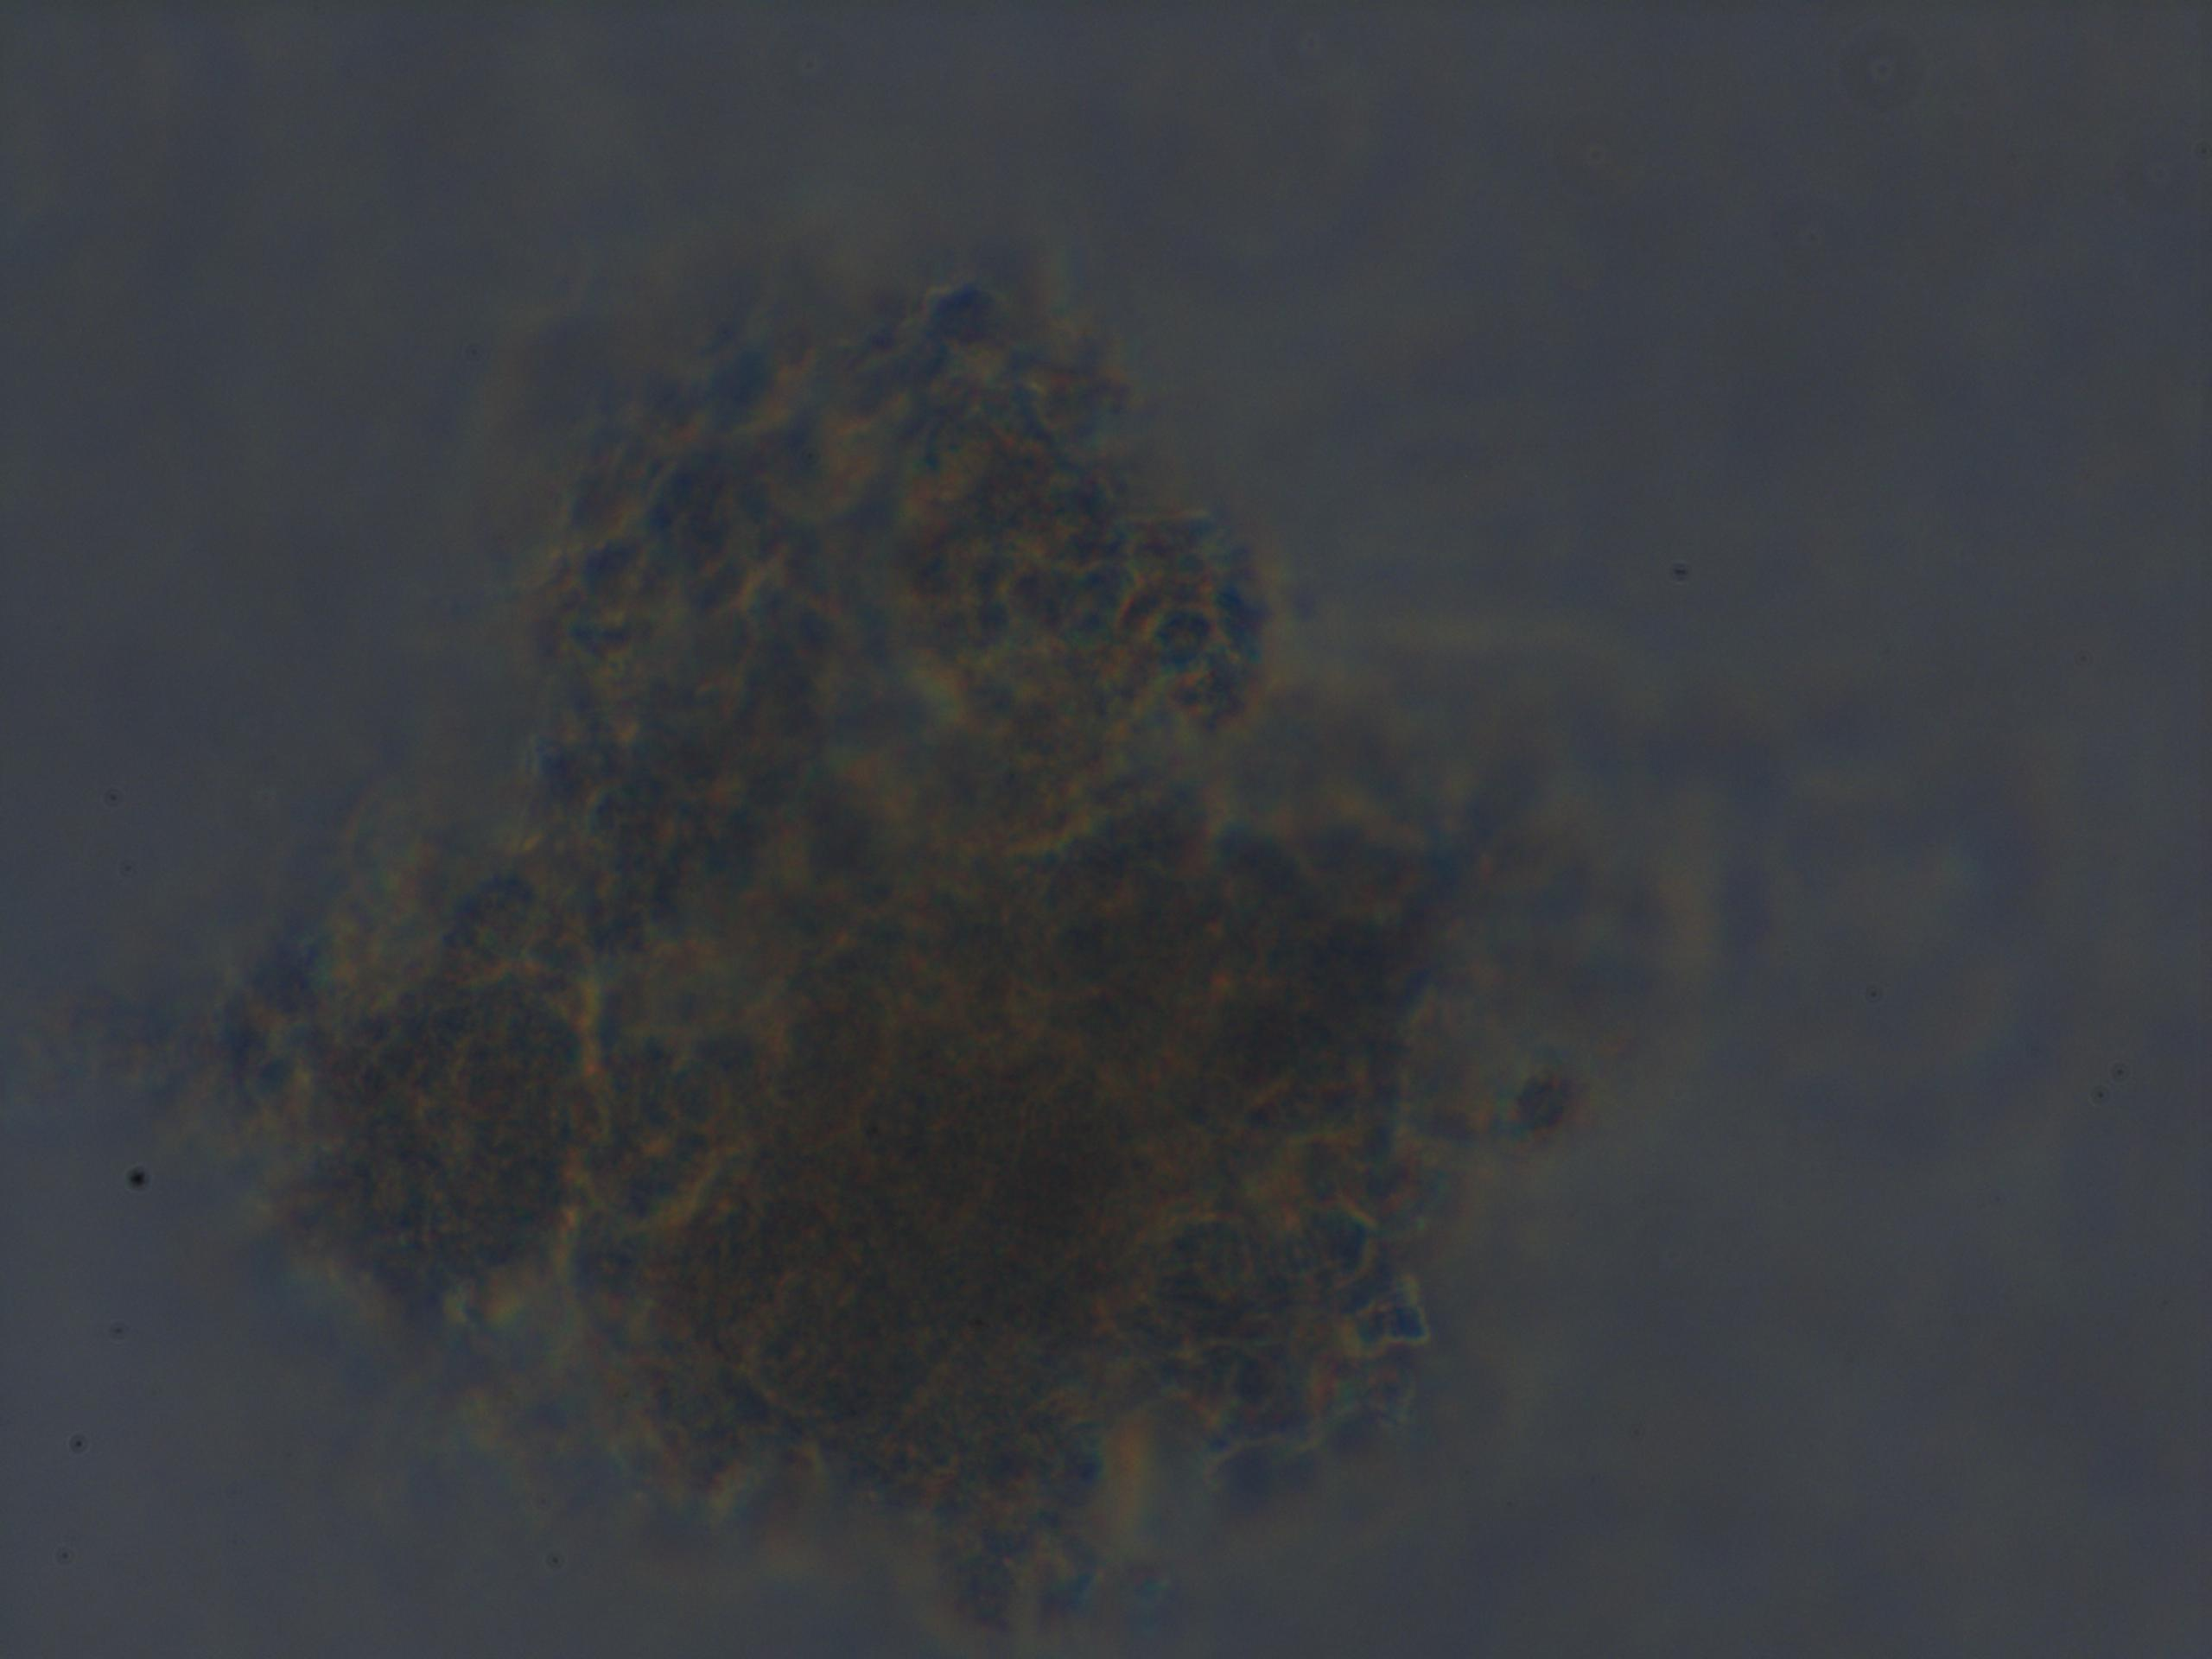spherical_floc: (185, 265, 1482, 1656)
